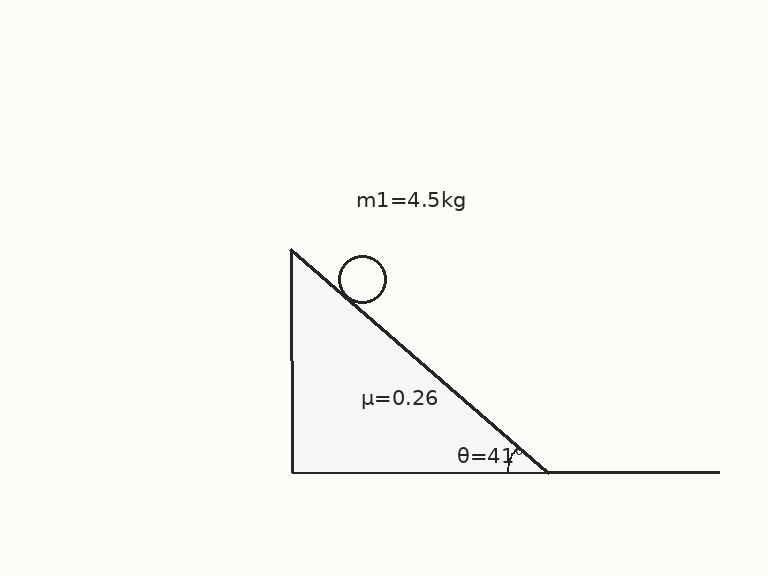ball: (336, 253, 388, 305)
ramp: (290, 248, 550, 474)
